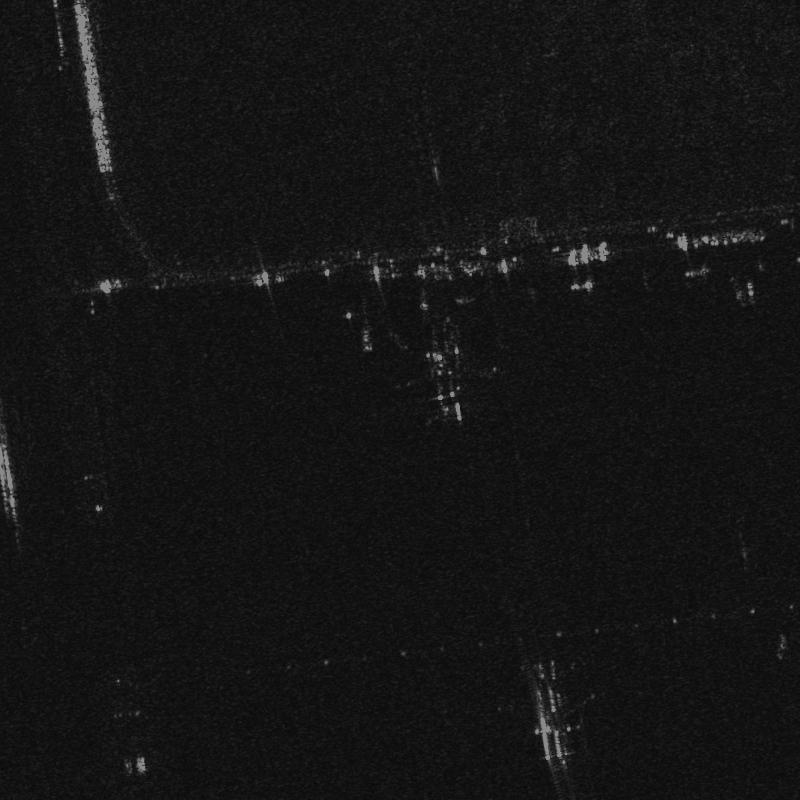A320/321: (385, 335, 504, 434)
